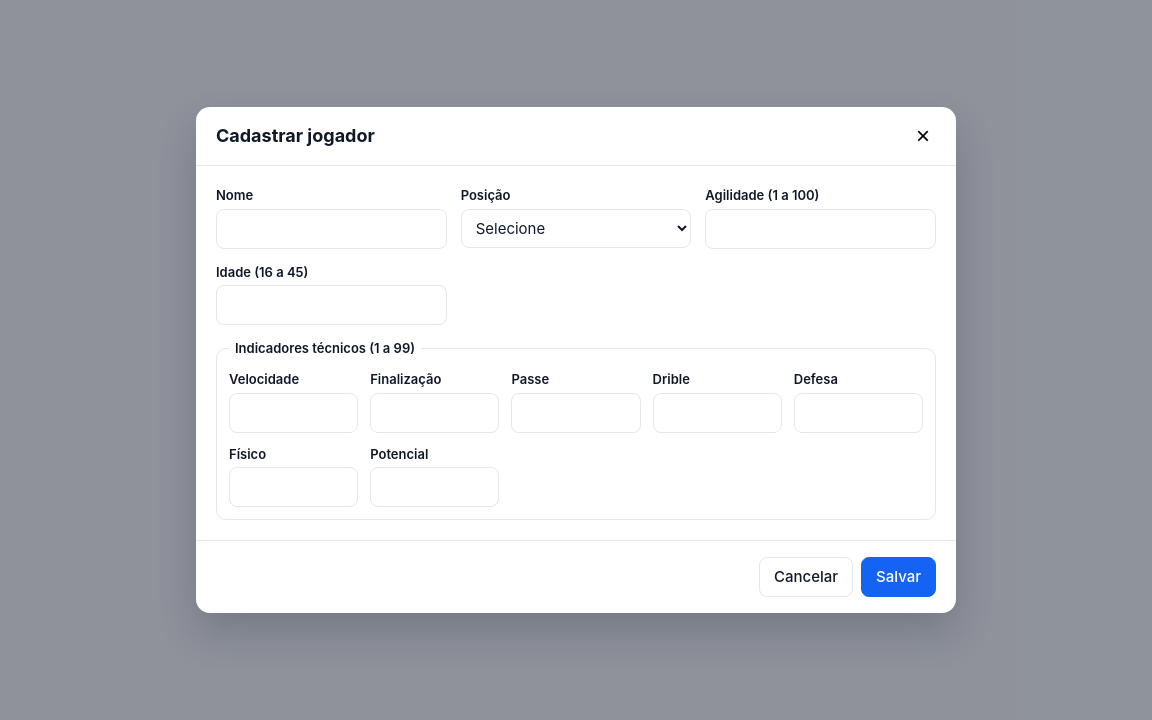
Test: PlayerForm › valida os campos antes de enviar
This screenshot has width=1152, height=720.
Type "Ab" into the field labelled "Nome" at point(331, 229), box [216,209,447,249]
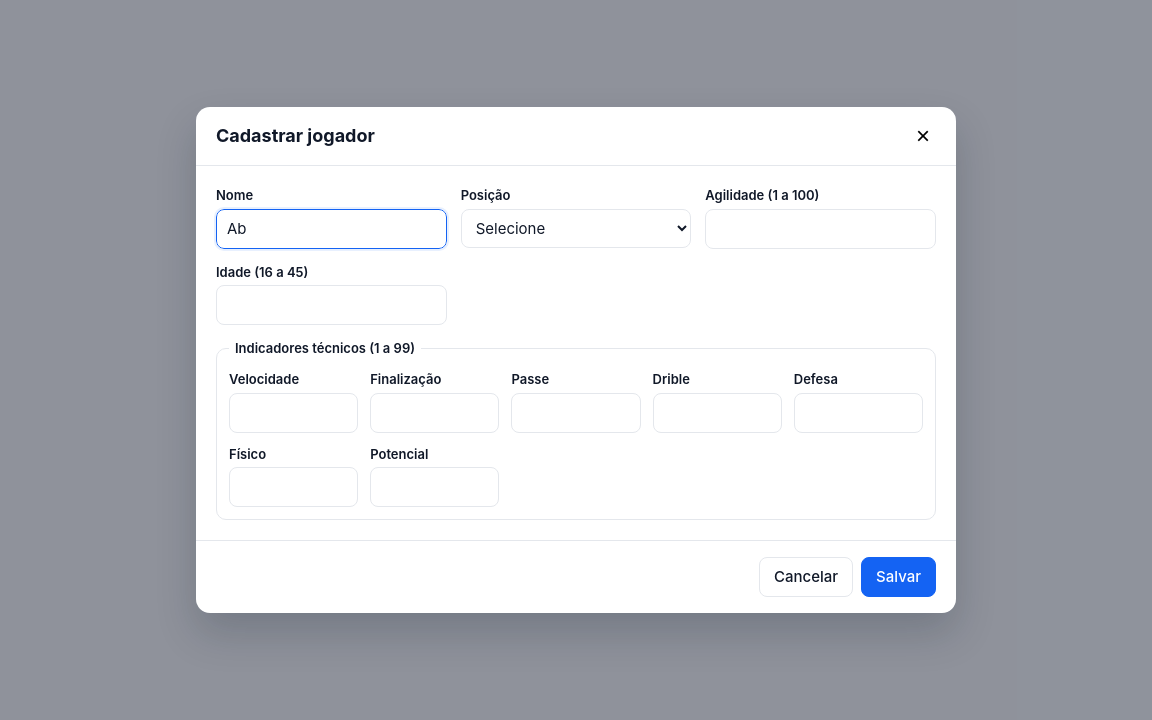
Type "150" into the number field labelled "Agilidade (1 a 100)" at point(821, 229), box [705,209,936,249]
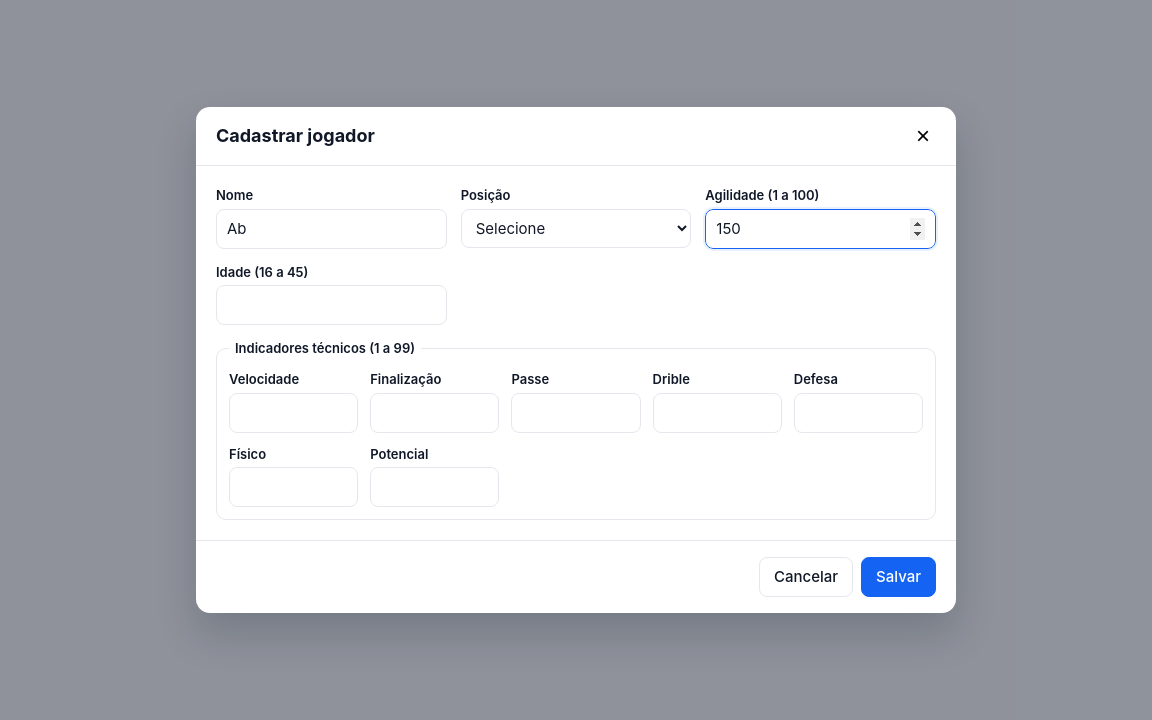
Click the button "Salvar" at point(899, 577), box [861,557,936,597]
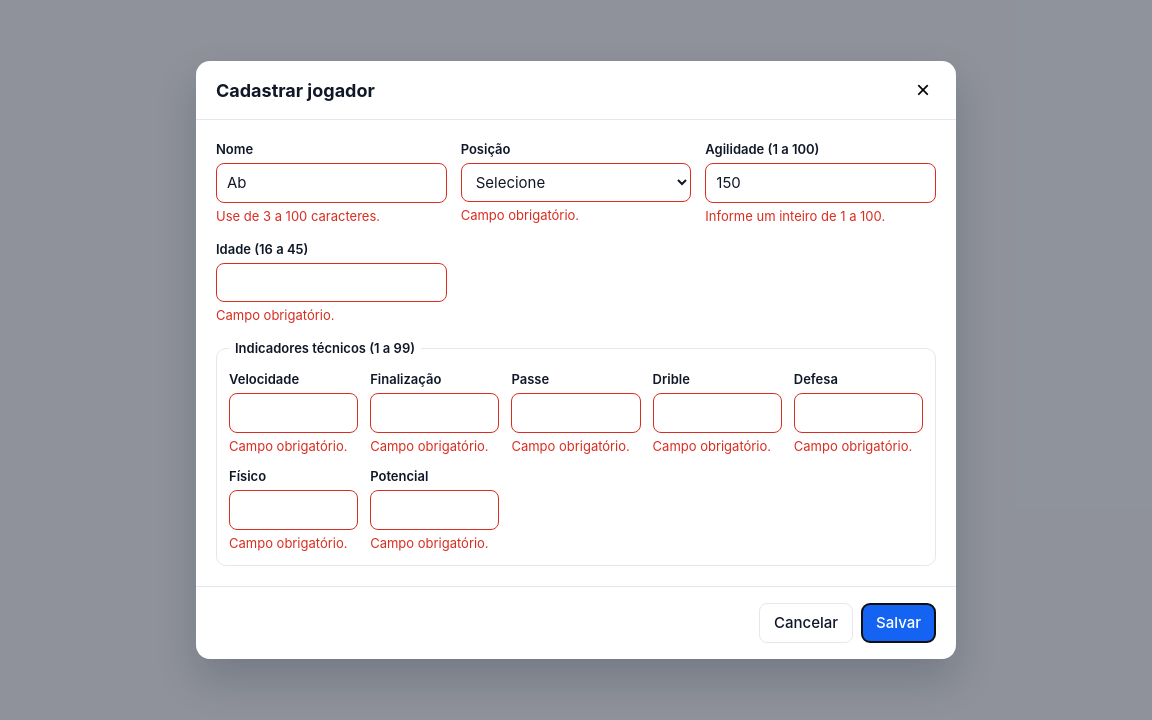
Check: the text "Use de 3 a 100 caracteres." is shown, box [216,208,380,224]
Check: the text "Informe um inteiro de 1 a 100." is shown, box [705,208,885,224]
